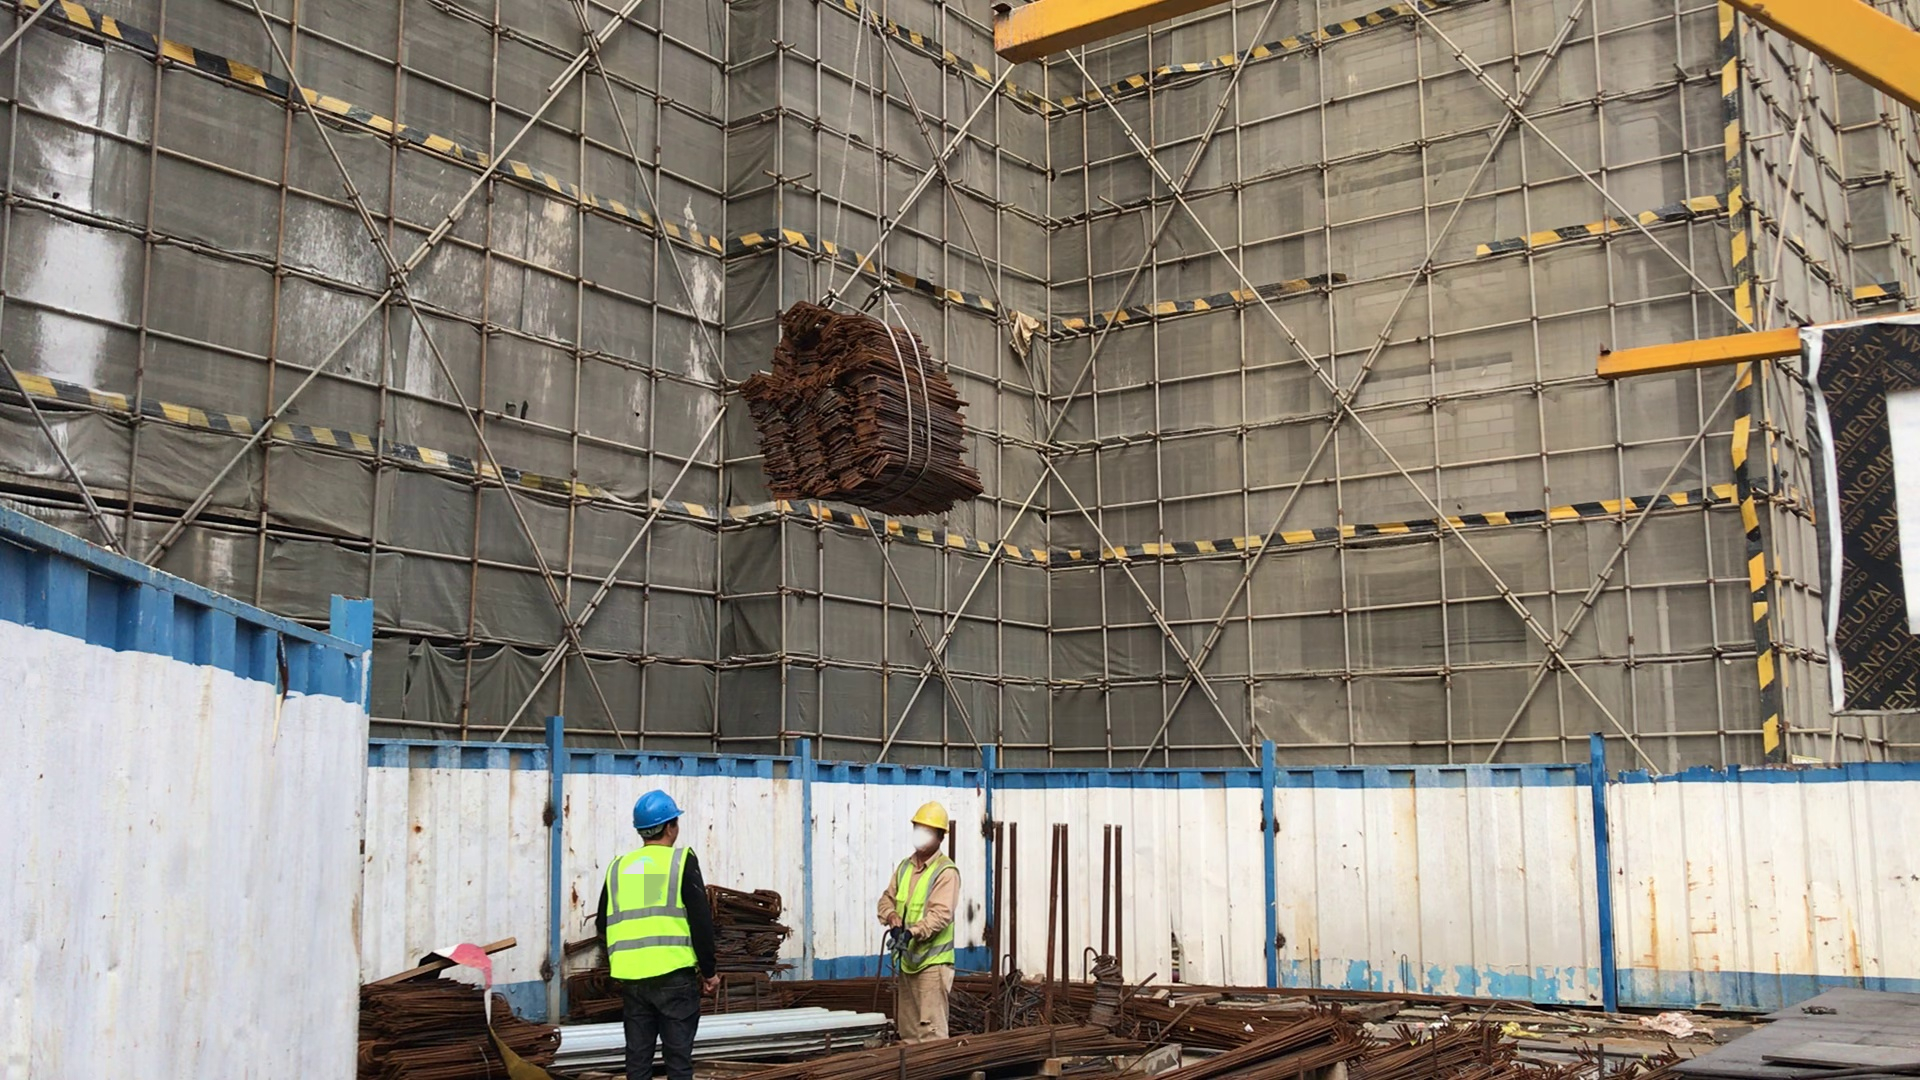helmet: (628, 789, 686, 824), (910, 801, 944, 831)
person: (593, 780, 717, 1080), (877, 800, 966, 1050)
vest: (612, 848, 699, 983), (892, 858, 959, 963)
